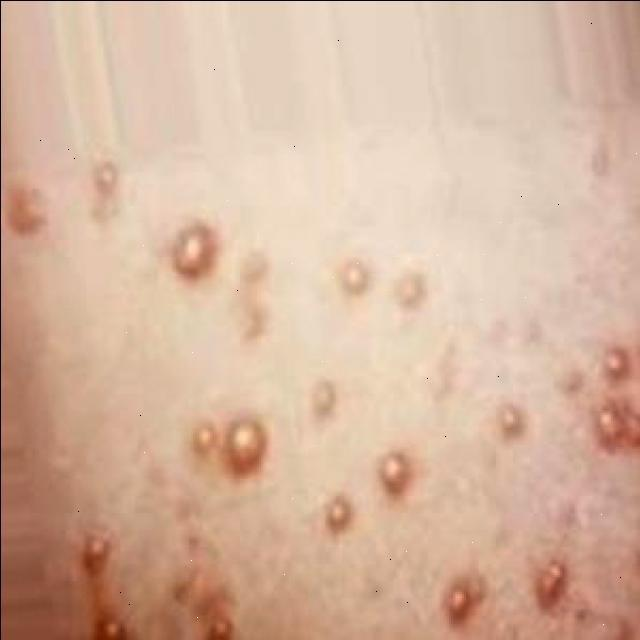Shingles: (172, 222, 218, 276), (225, 418, 268, 473), (442, 574, 487, 625), (594, 401, 640, 450), (7, 184, 48, 233), (534, 560, 568, 607), (378, 450, 413, 493), (394, 269, 429, 308), (338, 257, 372, 295), (80, 533, 112, 572), (238, 249, 272, 284), (310, 378, 338, 417), (497, 402, 527, 438), (191, 421, 219, 458), (202, 608, 235, 639), (325, 497, 354, 532), (92, 160, 120, 196), (242, 306, 270, 342), (602, 346, 630, 380), (94, 616, 129, 640)
